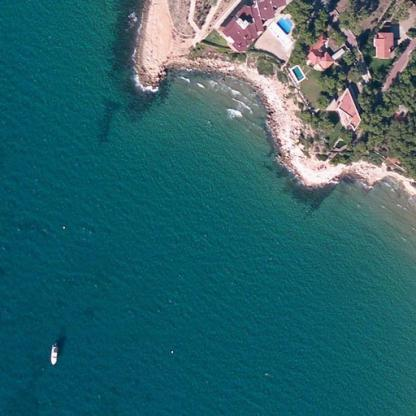ship: (48, 322, 60, 351)
